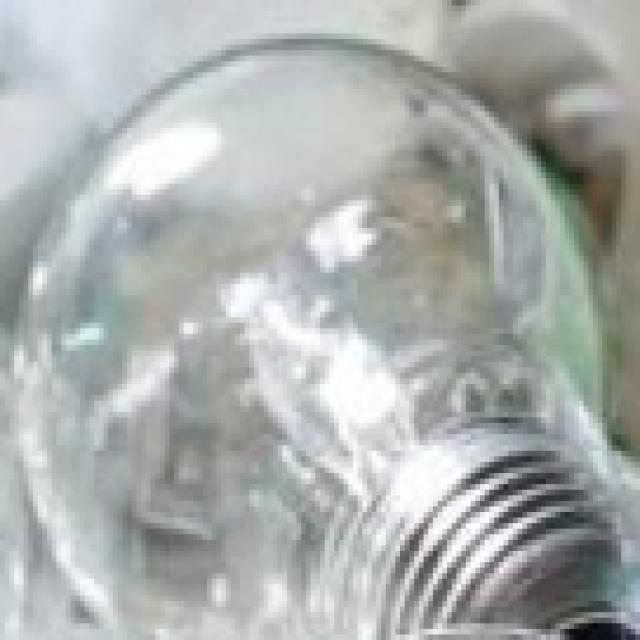bulb: (6, 15, 640, 639)
